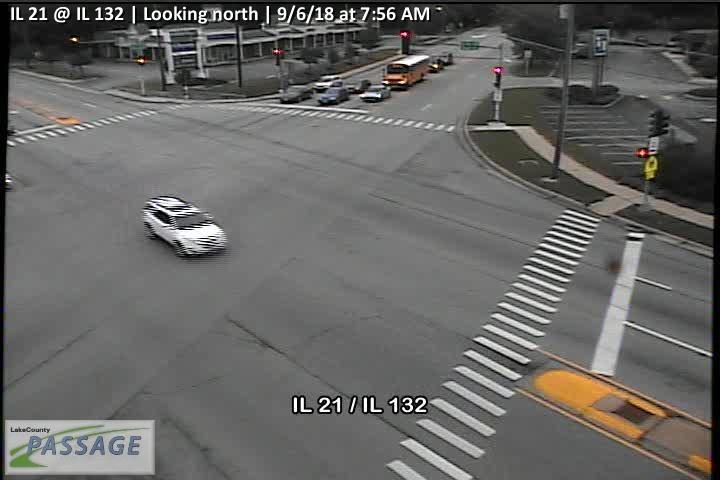Bus: (381, 53, 431, 91)
SUV: (141, 195, 228, 259), (313, 74, 343, 91), (429, 56, 443, 73), (440, 51, 453, 65)
Sedan: (279, 85, 314, 103), (317, 86, 350, 105), (359, 83, 391, 102), (347, 78, 372, 93)
